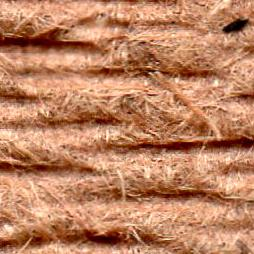egg: (223, 18, 247, 32)
